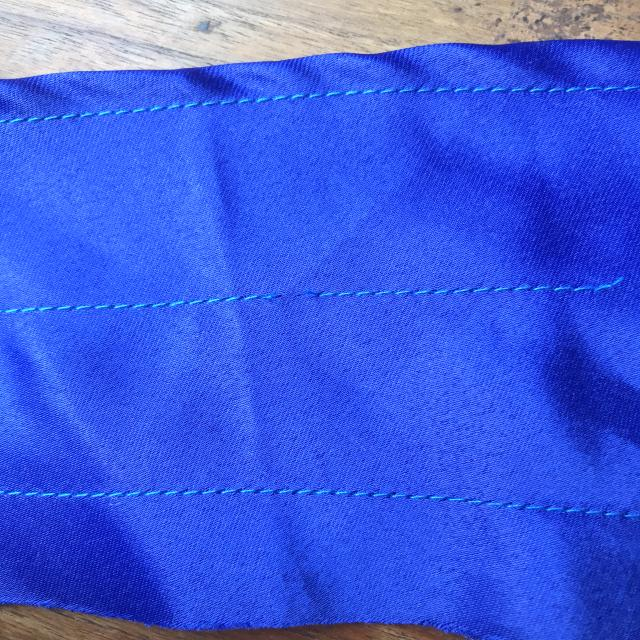broken: (235, 274, 344, 319)
good: (141, 77, 366, 130), (174, 474, 416, 516), (415, 275, 516, 311)
